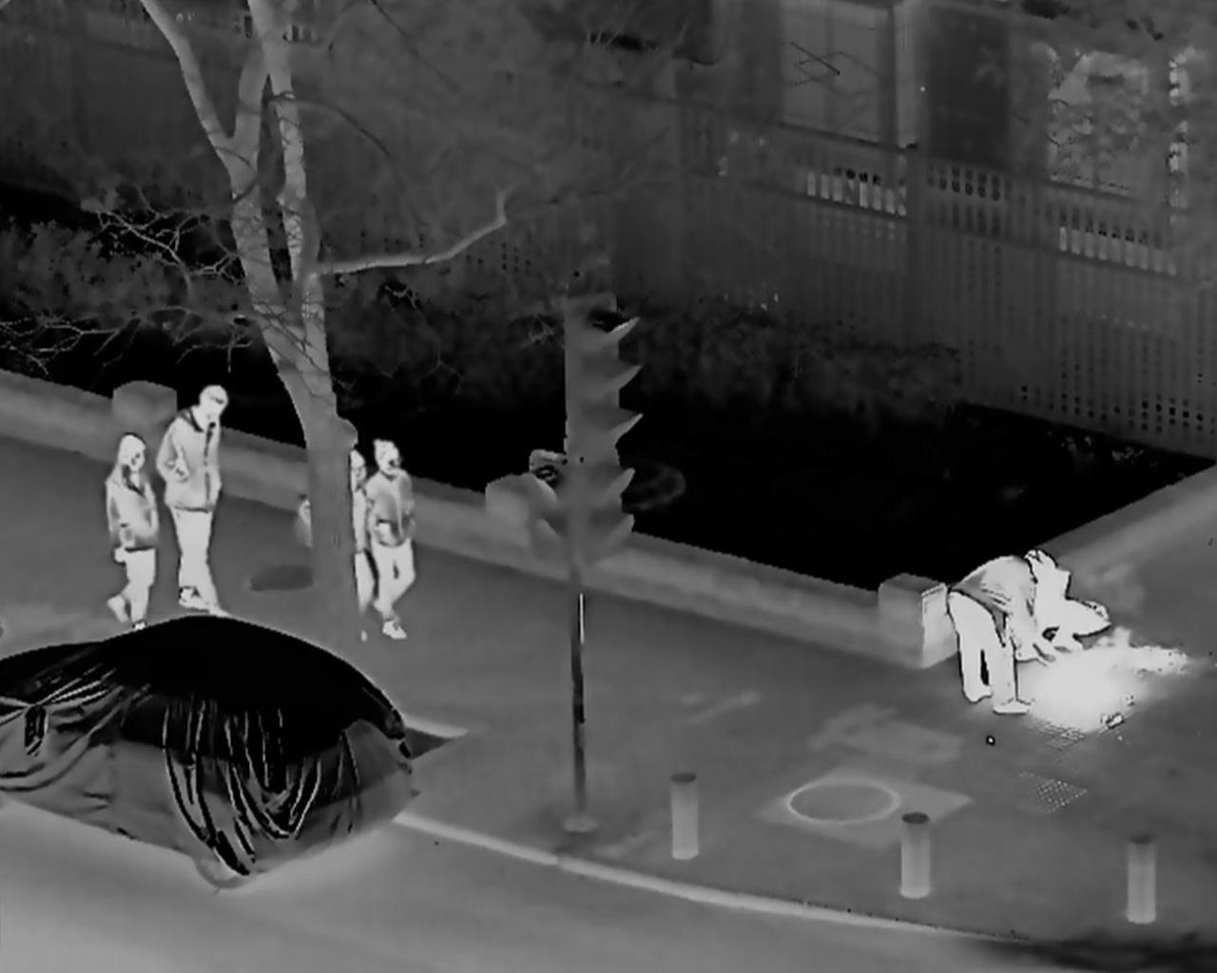person: (154, 388, 249, 630), (950, 547, 1052, 715), (97, 433, 164, 635), (309, 450, 372, 634), (360, 446, 419, 638), (992, 561, 1108, 658)
